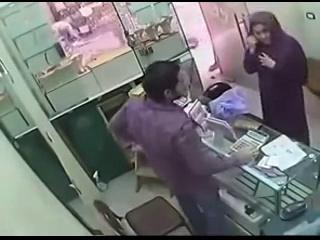Normal: (108, 61, 255, 234), (242, 11, 310, 146), (93, 196, 193, 236)
